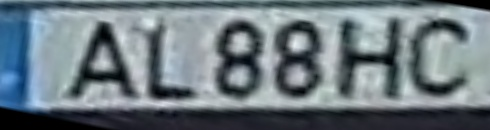8: (209, 16, 267, 105), (270, 21, 326, 103)
A: (57, 16, 145, 105)
C: (405, 13, 478, 102)
H: (334, 16, 406, 105)
L: (146, 20, 199, 105)
